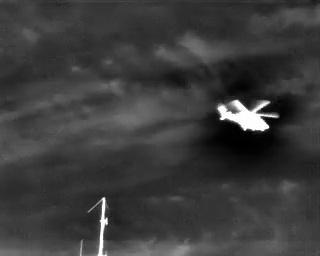HELICOPTER: (215, 92, 284, 139)
